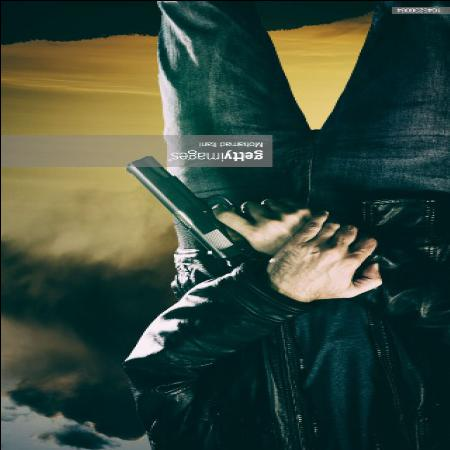Pistol: (123, 158, 262, 274)
